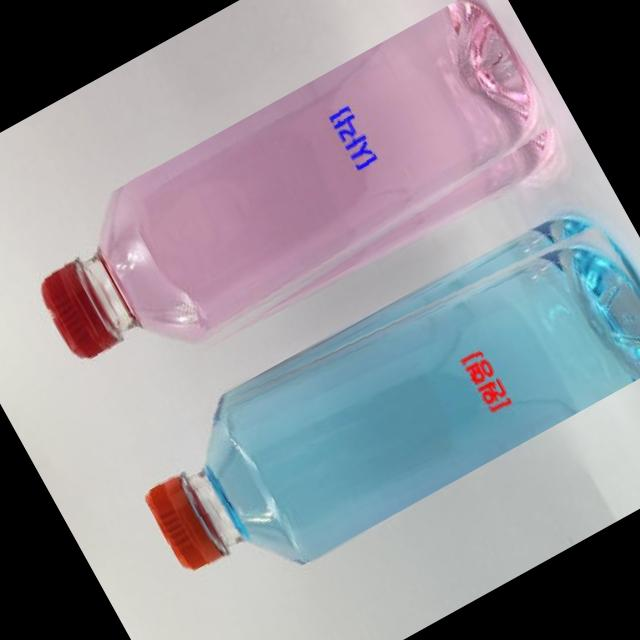plastic bottle: (11, 0, 573, 414), (118, 190, 640, 615)
